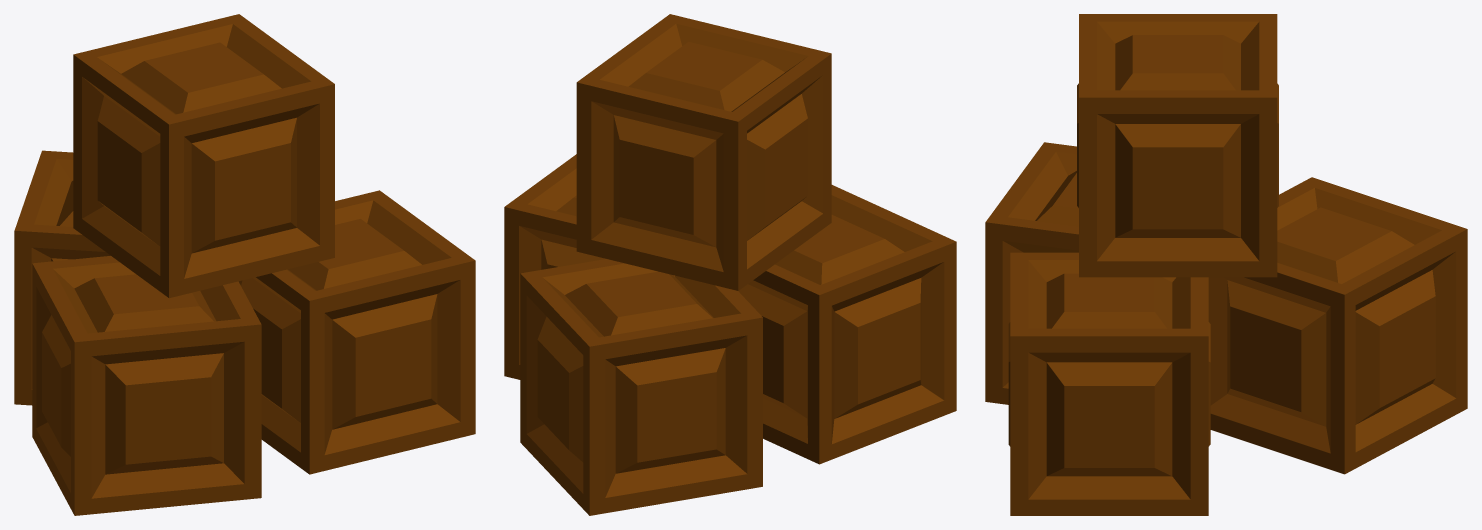
The model's file is CRATES.fbx.
3 renders of one model, left to right at view 1: azimuth 30°, elevation 25°; view 2: azimuth 150°, elevation 25°; view 3: azimuth 270°, elevation 25°, orthographic. The views are drawn at different scales.
Parts seen in each view (by area): view 1: Cube.003, Cube.002, Cube, Cube.001; view 2: Cube.003, Cube.001, Cube.002, Cube; view 3: Cube.001, Cube.003, Cube, Cube.002.
Part boxes in pixels (x1,y1,x2,y2): Cube.003: (73,14,334,298); Cube.002: (32,256,261,515); Cube: (238,190,475,474); Cube.001: (14,150,110,405); Cube.003: (576,14,831,290); Cube.001: (520,259,762,515); Cube.002: (738,185,956,464); Cube: (504,154,605,379); Cube.001: (1208,177,1467,474); Cube.003: (1077,14,1278,277); Cube: (1008,252,1210,515); Cube.002: (985,142,1078,404).
Bounding box in the file's own units: 465 × 409 × 486.
